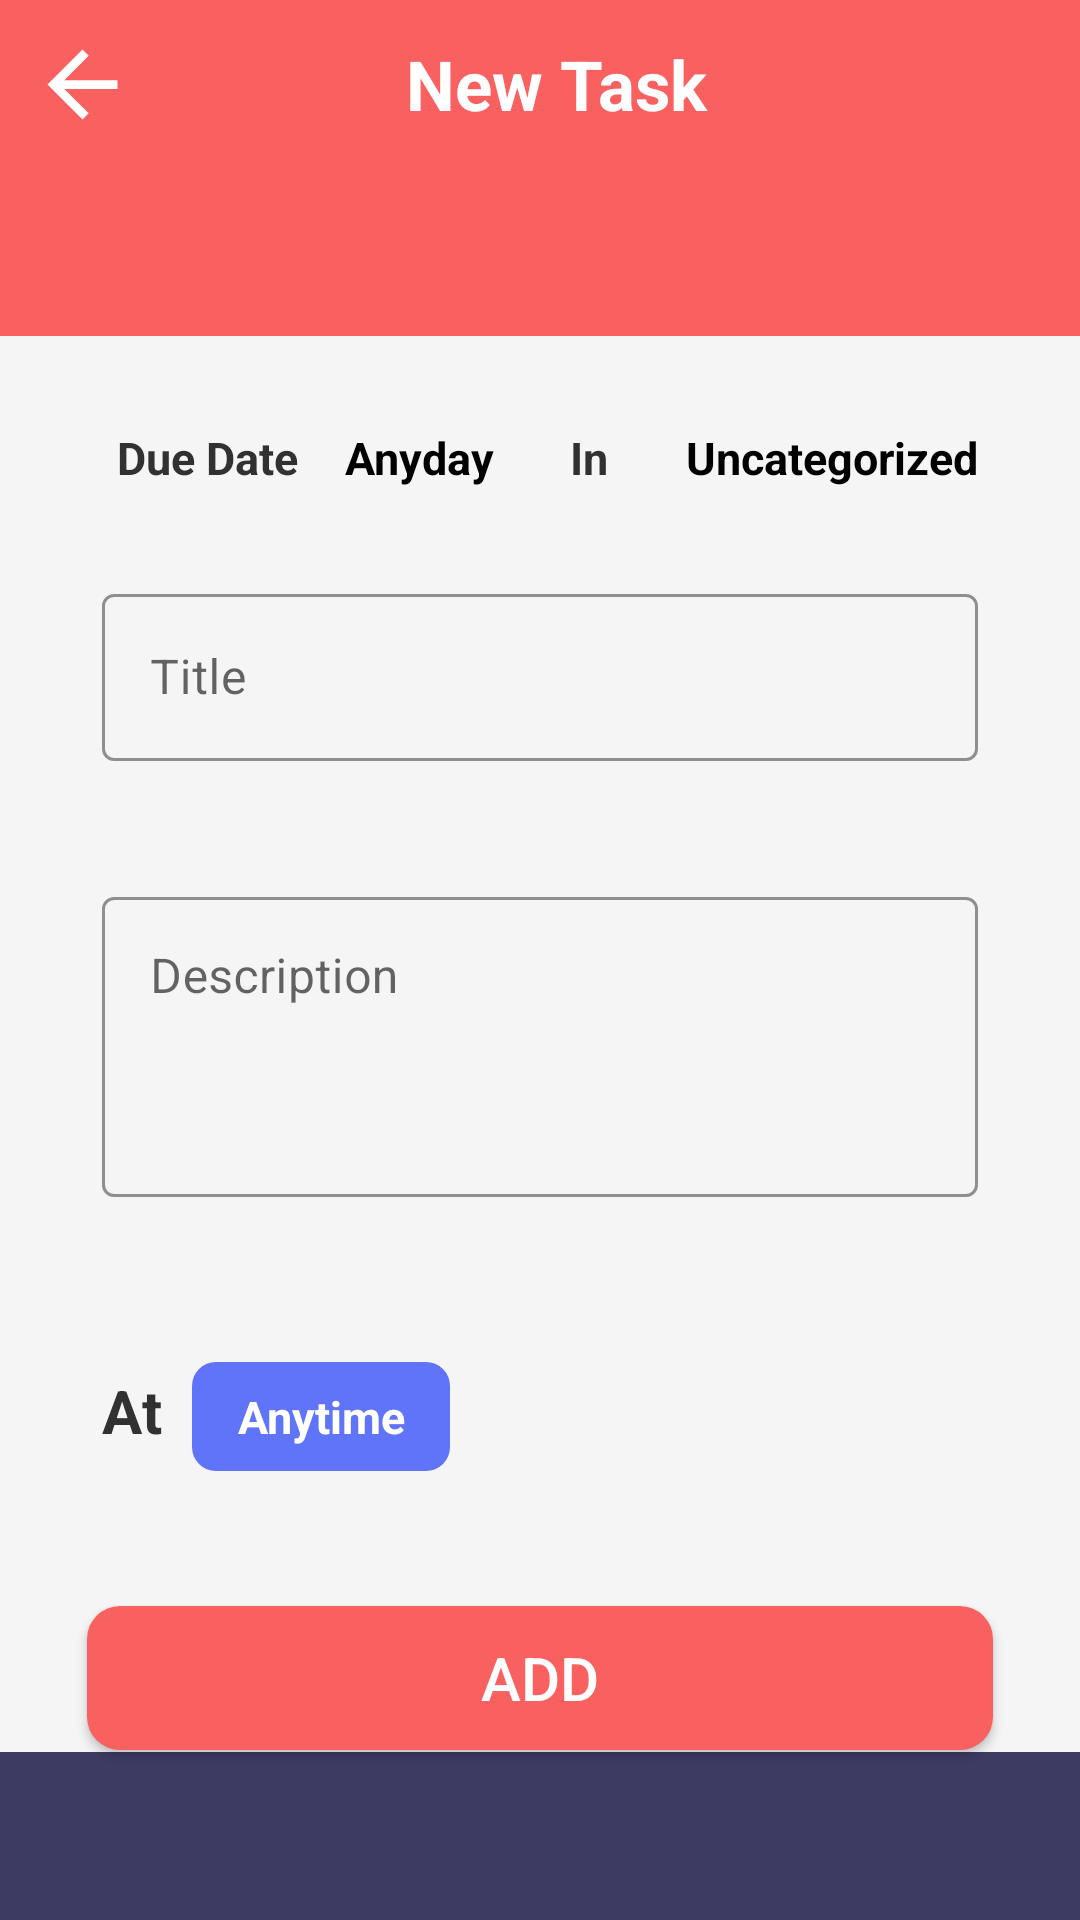

Named icons in this screenshot (1080x1920) and their bounding boxes, (x1, y1, x2, y2):
arrow back: (47, 49, 118, 120)
